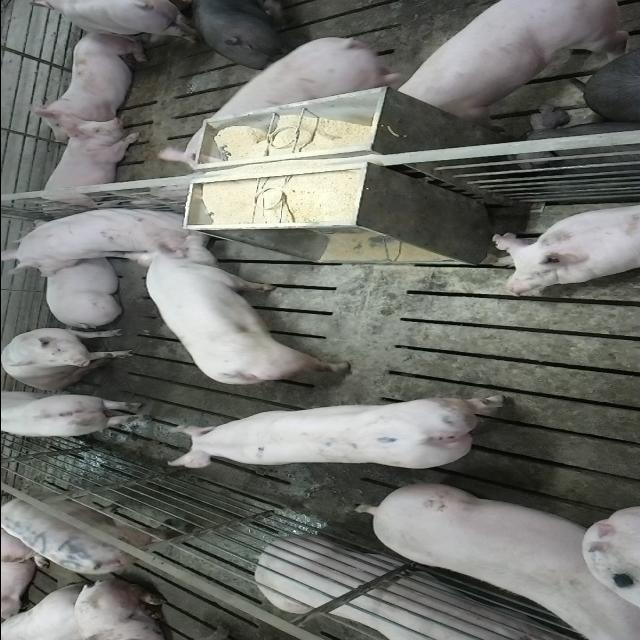Sitting: (4, 202, 220, 272), (0, 326, 138, 390)
Standing: (390, 2, 632, 124), (168, 396, 516, 476), (210, 36, 408, 126), (0, 487, 202, 573), (2, 391, 152, 441), (190, 0, 297, 69)
Sternal_lying: (249, 539, 580, 640), (488, 201, 640, 294), (28, 27, 151, 129), (32, 119, 140, 212), (38, 255, 126, 326)
